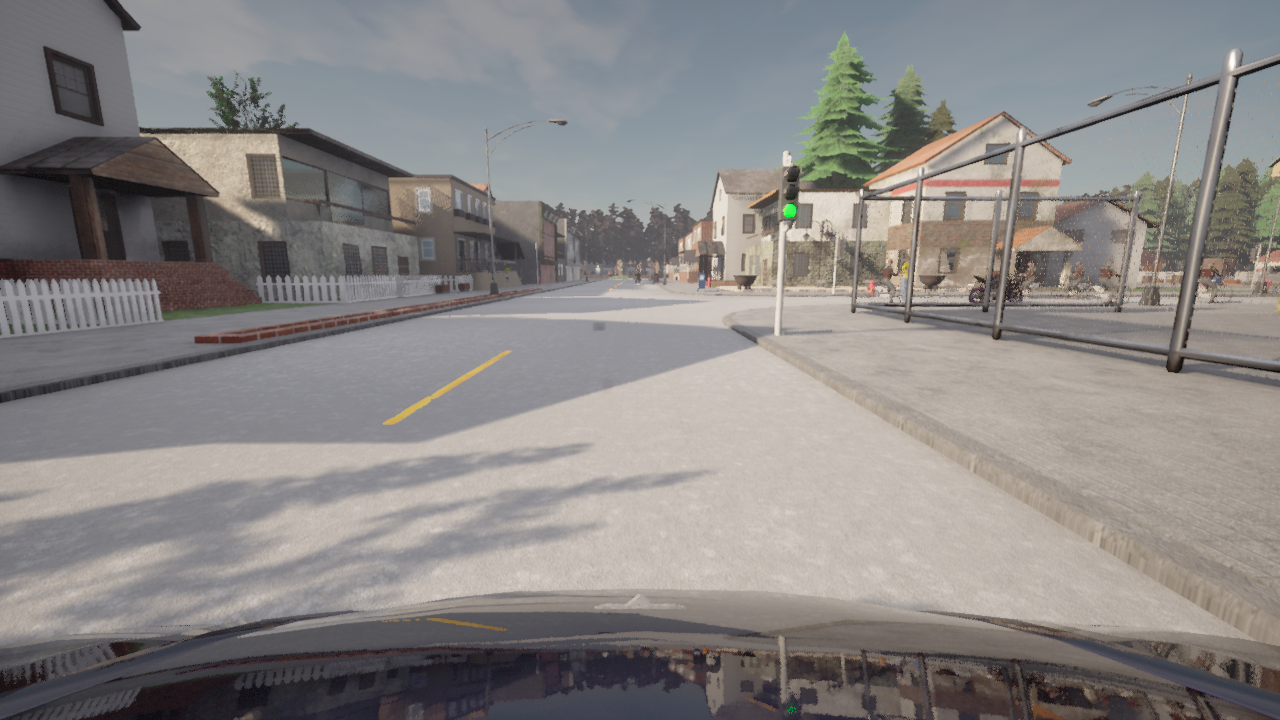cyclist: (0, 588, 1279, 719), (967, 273, 1022, 302), (869, 276, 913, 302), (1195, 278, 1232, 303), (1086, 283, 1131, 302), (1051, 279, 1089, 298), (1023, 282, 1042, 297), (637, 278, 638, 281)
pedestrian: (900, 255, 909, 302), (503, 264, 511, 288)
